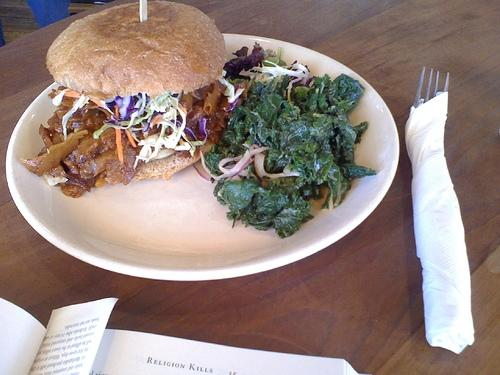carrot: (115, 129, 124, 165), (125, 130, 136, 148), (89, 97, 104, 108), (64, 89, 82, 98), (152, 114, 164, 126), (178, 106, 187, 116)
onion: (200, 148, 251, 180), (254, 152, 300, 180), (219, 155, 244, 174), (277, 66, 310, 78), (248, 146, 271, 158)
